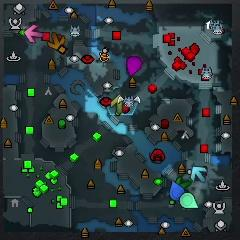p1: (170, 180, 184, 202)
p2: (180, 193, 199, 209)
p3: (126, 57, 142, 76)
x1: (25, 24, 43, 43)
x2: (112, 96, 127, 114)
x3: (191, 167, 207, 182)
x4: (176, 177, 192, 188)
x5: (48, 33, 65, 50)
